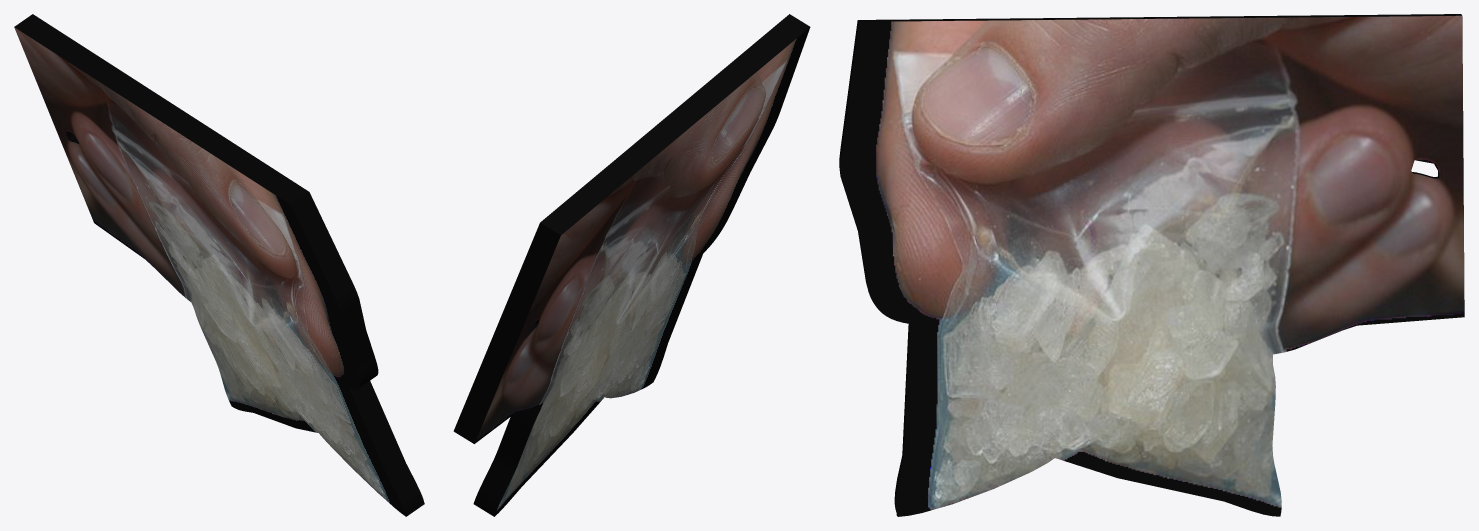
The model's file is sabu2.gltf.
3 renders of one model, left to right at view 1: azimuth 30°, elevation 25°; view 2: azimuth 150°, elevation 25°; view 3: azimuth 270°, elevation 25°, orthographic. The views are drawn at different scales.
Parts seen in each view (by area): view 1: Layer_0; view 2: Layer_0; view 3: Layer_0.
Boxes of the visible parts, x1,y1,x2,y2 form: Layer_0: [14, 14, 424, 516]; Layer_0: [453, 14, 810, 516]; Layer_0: [839, 14, 1464, 516].
Size of the model in its own units: 1.14 by 2.34 by 3.05.
3 materials, 3 textured.
